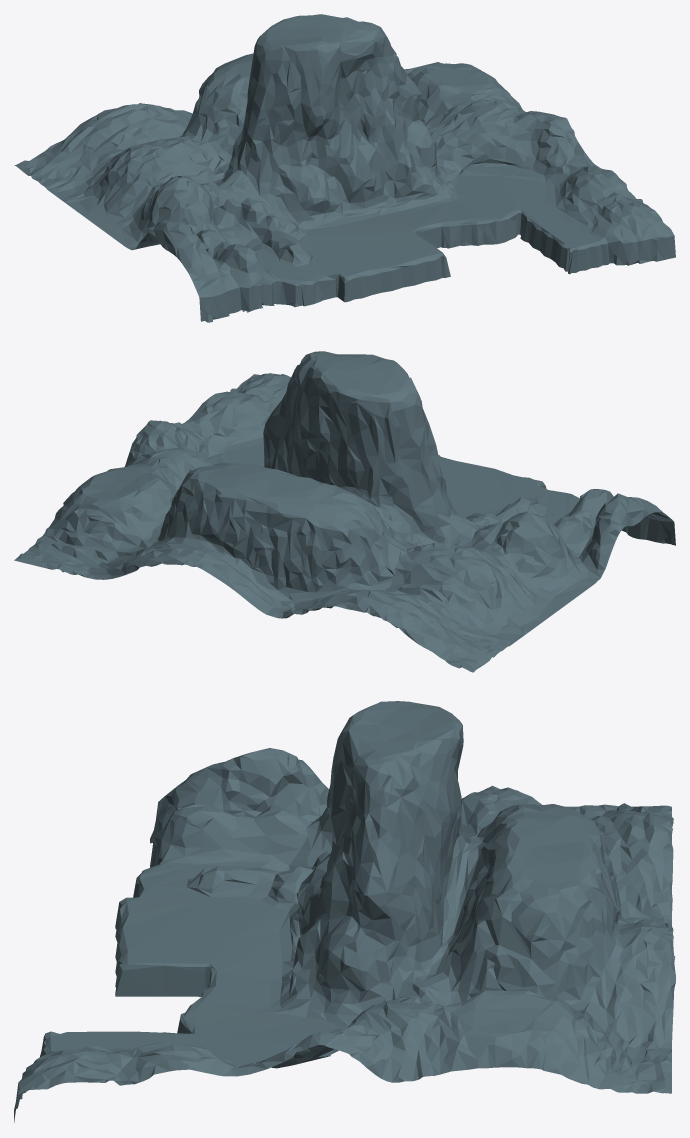
File: Mountain.fbx
3 views of the same model, one above another, from view 1: azimuth 30°, elevation 25°; view 2: azimuth 150°, elevation 25°; view 3: azimuth 270°, elevation 25° (orthographic). The views are drawn at different scales.
Parts seen in each view (by area): view 1: Ice; view 2: Ice; view 3: Ice.
Part boxes in pixels (left/top/right/bottom): Ice: left=14, top=14, right=675, bottom=322; Ice: left=14, top=351, right=675, bottom=672; Ice: left=14, top=701, right=675, bottom=1122.
Size of the model in its own units: 970 by 391 by 936.
